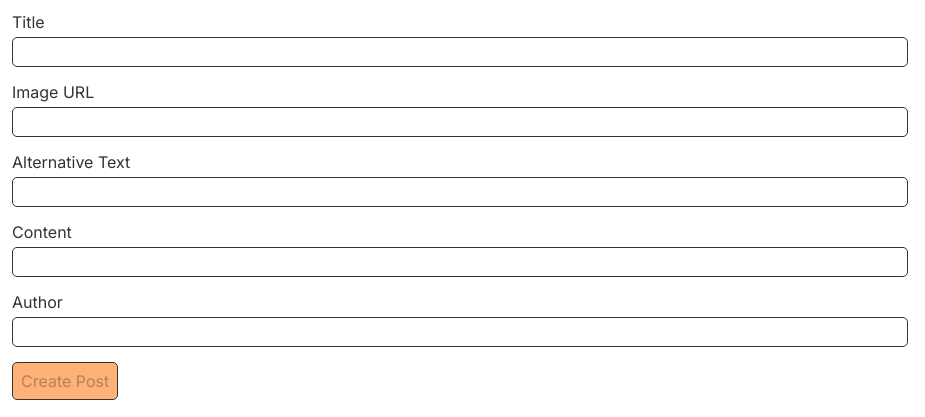
Test case: Given the PostForm component › When the user fills all the required fields › Then it should show an enabled 'Create Post' button
In the field labelled "Title": coordinates (460, 52) [12,37,908,67], type "holi"
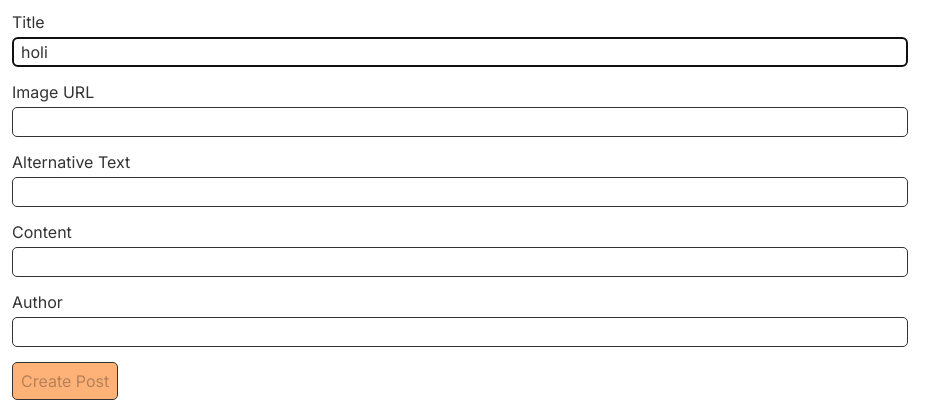
In the field labelled "Image URL": coordinates (460, 122) [12,107,908,137], type "aniol.webp"
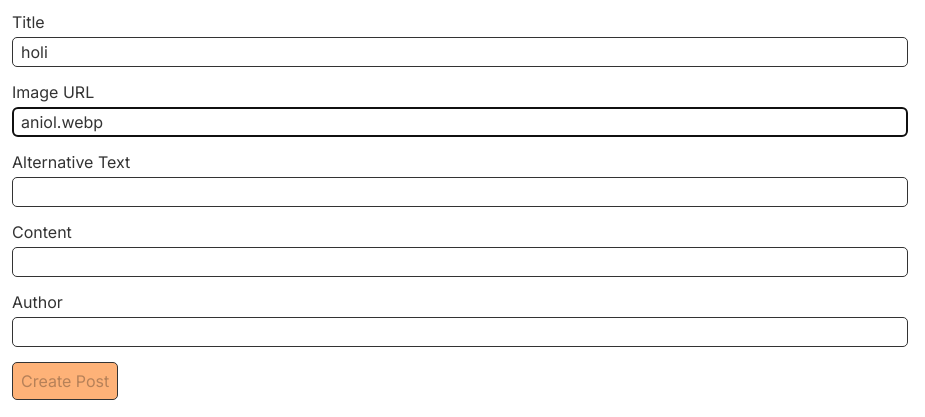
In the field labelled "Alternative Text": coordinates (460, 192) [12,177,908,207], type "cara de aniol"
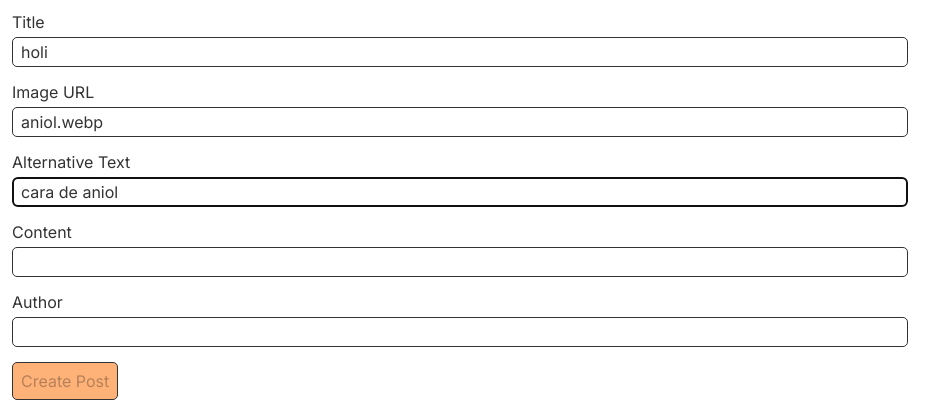
In the field labelled "Content": coordinates (460, 262) [12,247,908,277], type "soy programador"
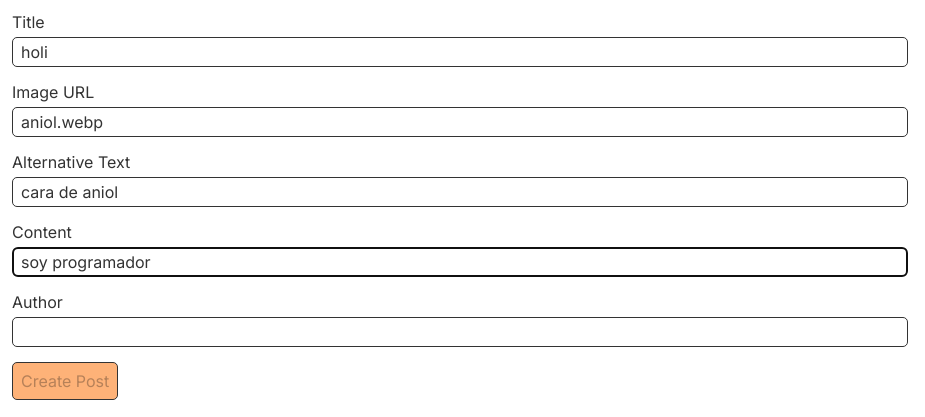
In the field labelled "Author": coordinates (460, 332) [12,317,908,347], type "Aniol"
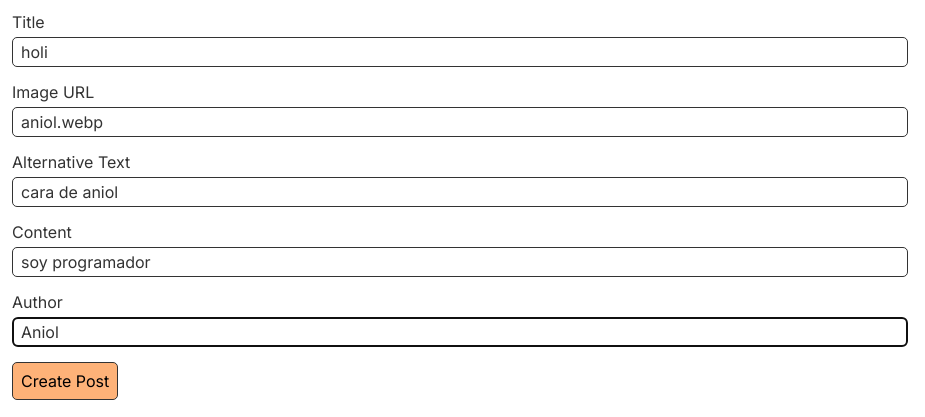
expect the button "Create Post" is enabled: met, box [12,362,118,400]
